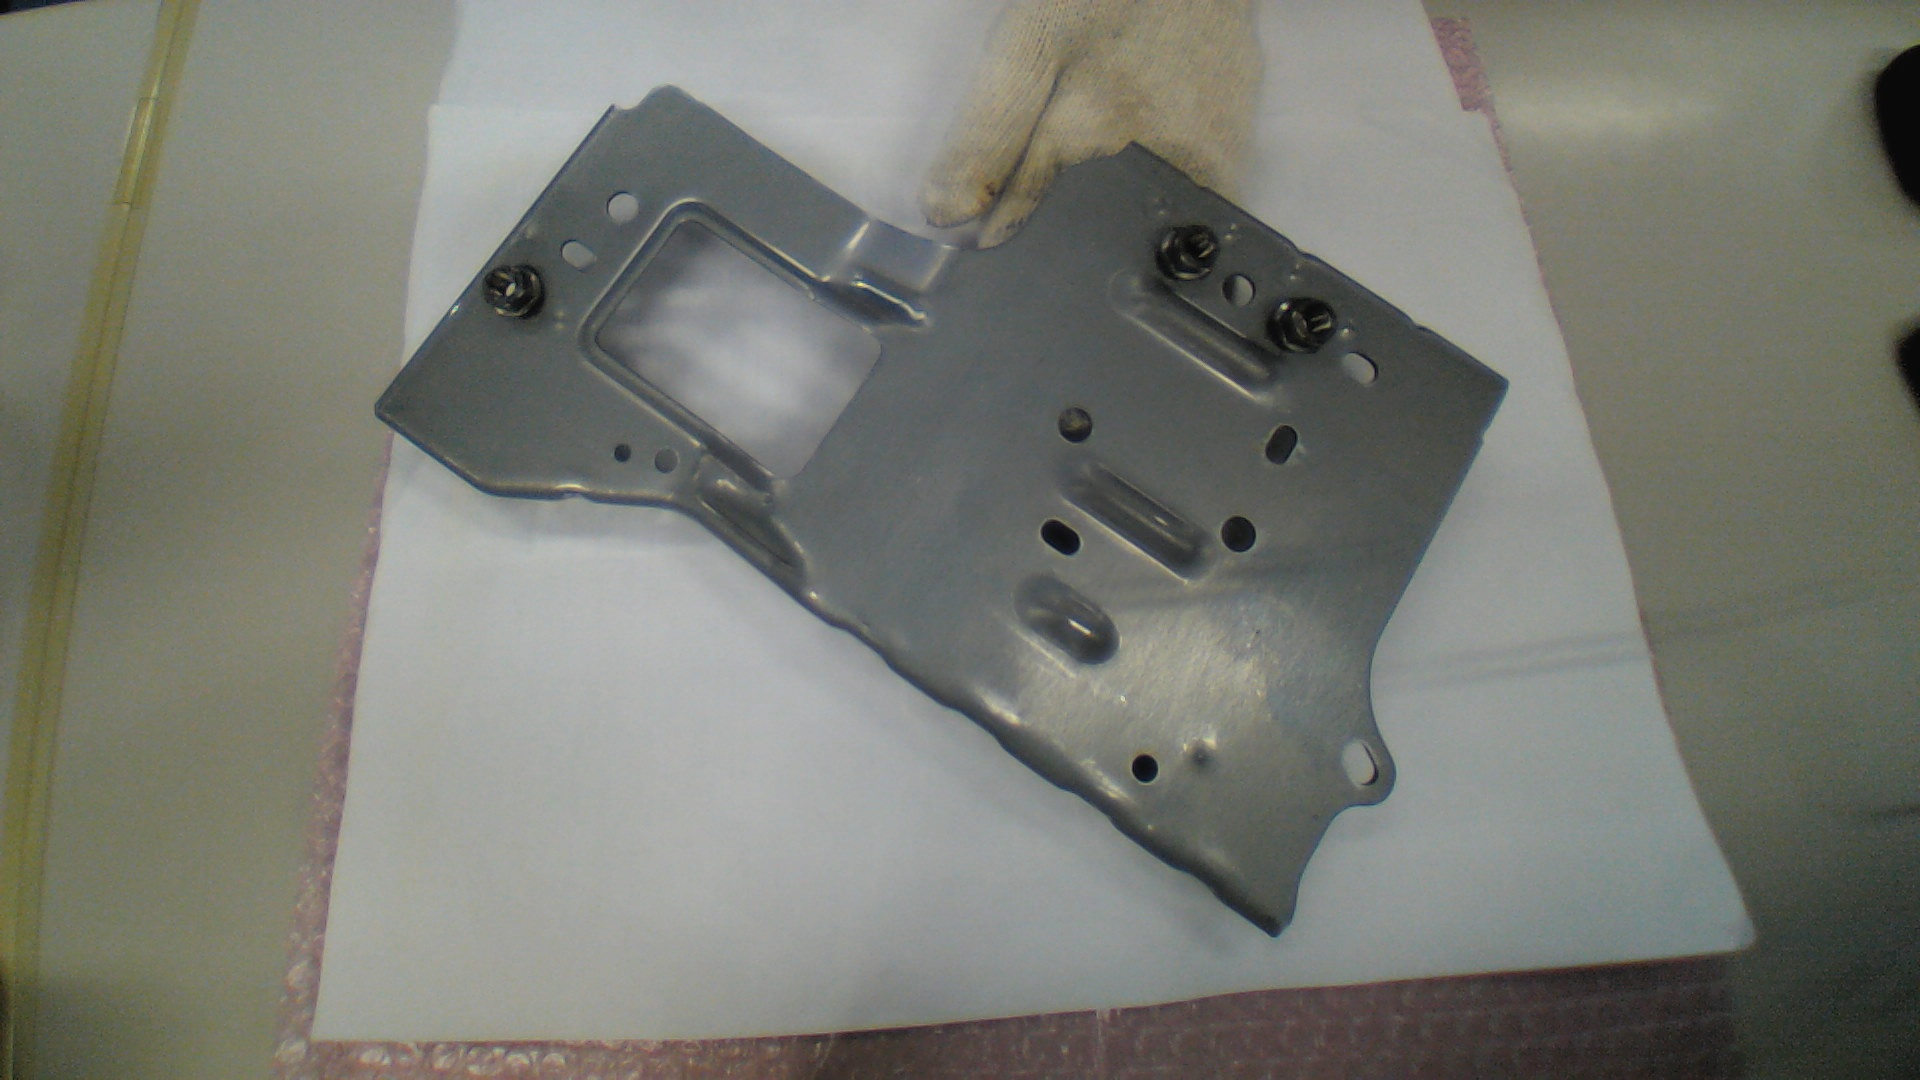dog: (1269, 295, 1336, 356), (1158, 225, 1222, 285), (483, 264, 545, 322)
